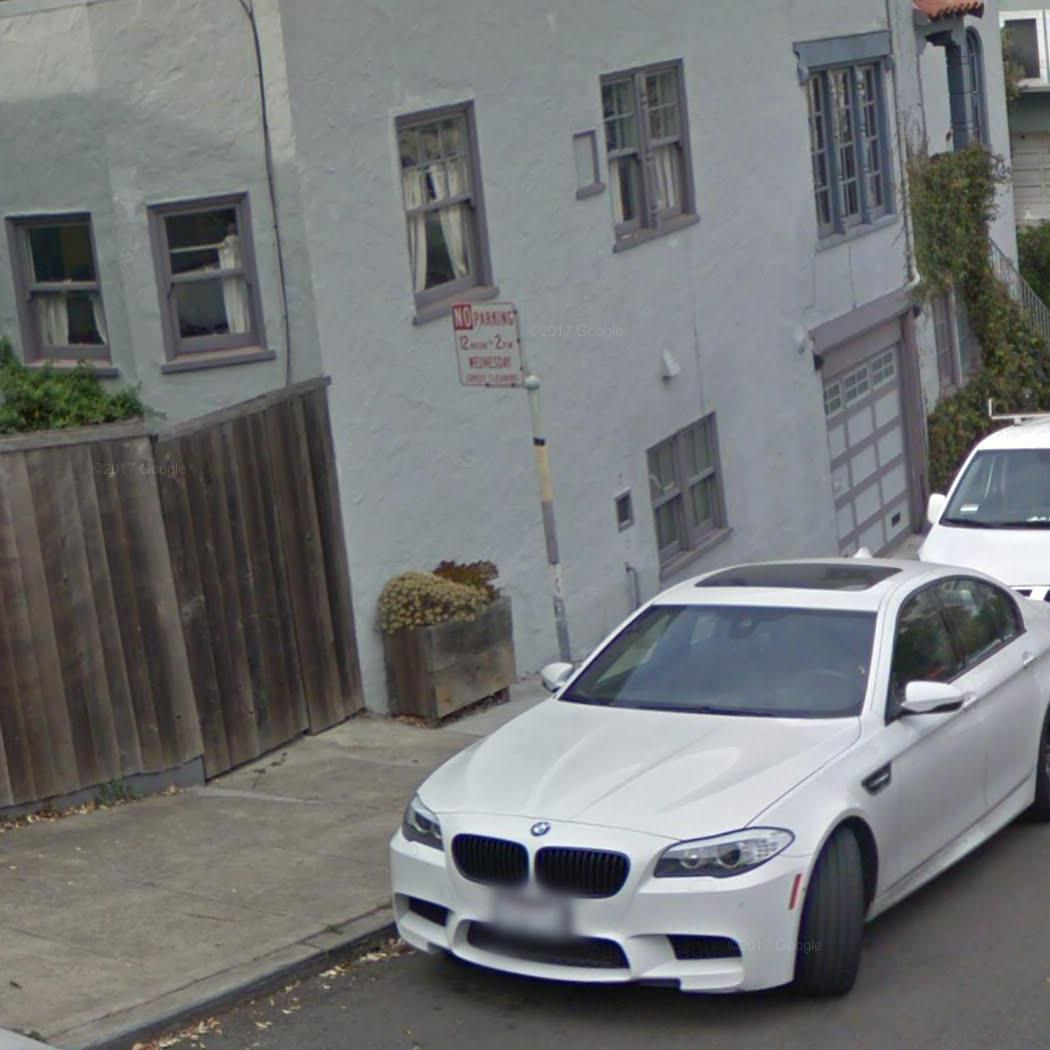No Parking: (448, 299, 530, 391)
